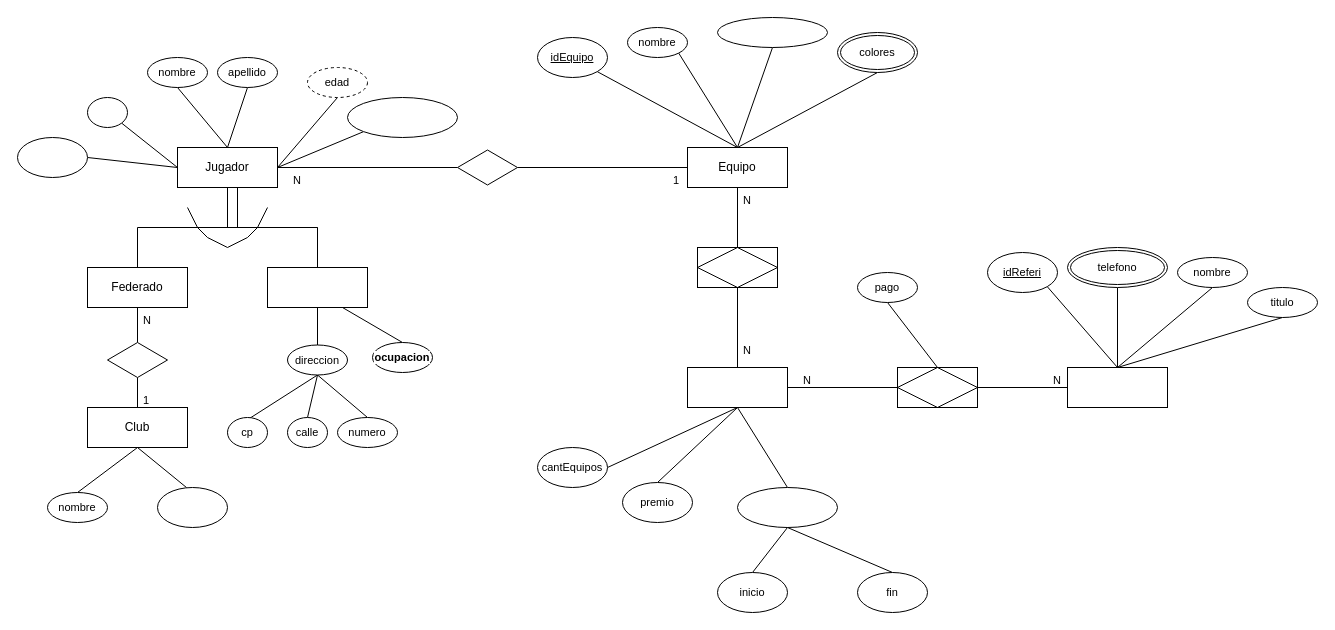
This 1335x630 diagram has some shape labels left out. Each missing label, with the centre of its shape:
"dni" goes at point (107, 112).
"fecha" goes at point (787, 507).
"fechaDeInscripcion" goes at point (772, 32).
"fechaDeNacimiento" goes at point (402, 117).
"idClub" goes at point (192, 507).
"idJugador" goes at point (52, 157).
"No Federado" goes at point (317, 287).
"participa" goes at point (737, 267).
"pertenece" goes at point (487, 167).
"Referi" goes at point (1117, 387).
"tiene" goes at point (137, 360).
"Torneo" goes at point (737, 387).
"trabaja" goes at point (937, 387).
